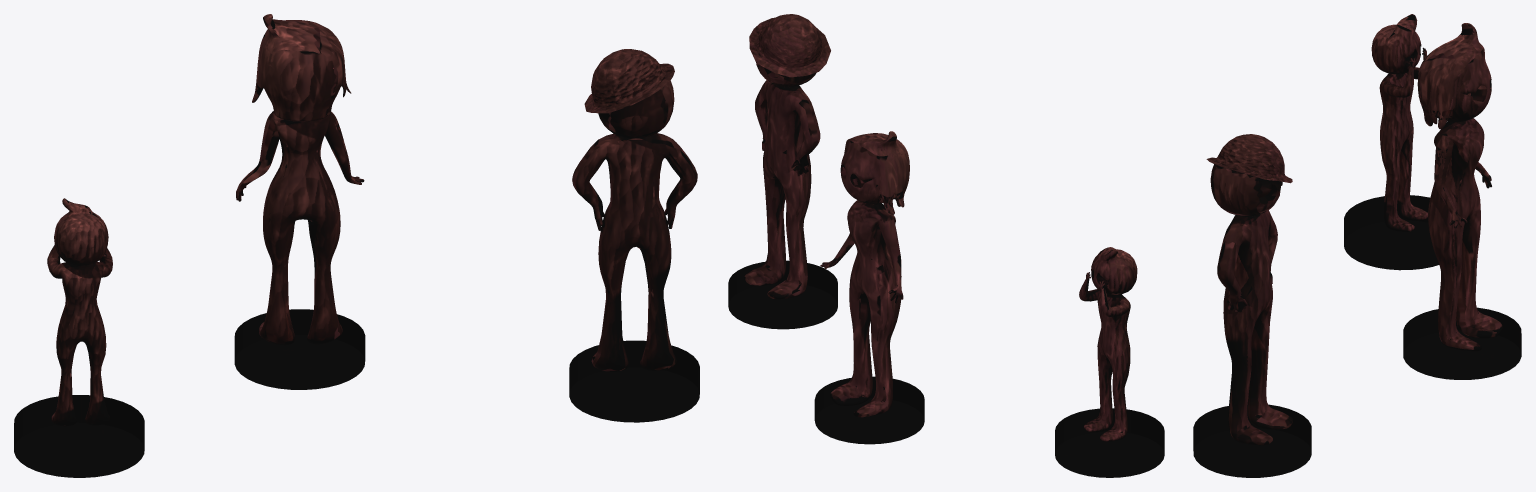
Rendered from wood_draco.glb.
3 views of the same model, side by side, from view 1: azimuth 30°, elevation 25°; view 2: azimuth 150°, elevation 25°; view 3: azimuth 270°, elevation 25° (orthographic). The views are drawn at different scales.
Parts seen in each view (by area): view 1: women, man, child, Circle.002, Circle, Circle.001, hat; view 2: women, man, child, Circle.002, Circle, Circle.001, hat; view 3: women, man, child, Circle, Circle.001, Circle.002, hat.
Part boxes in pixels (box(x1,y1,x2,y2)): women: box(236, 14, 364, 345); man: box(572, 80, 697, 371); child: box(47, 198, 112, 426); Circle.002: box(14, 395, 144, 477); Circle: box(569, 340, 699, 422); Circle.001: box(234, 309, 365, 389); hat: box(584, 49, 674, 113); women: box(820, 131, 909, 417); man: box(744, 62, 820, 299); child: box(1079, 247, 1137, 441); Circle.002: box(1055, 408, 1164, 477); Circle: box(728, 260, 837, 329); Circle.001: box(814, 376, 924, 444); hat: box(749, 14, 830, 77); women: box(1417, 23, 1502, 351); man: box(1210, 164, 1293, 445); child: box(1371, 14, 1427, 231); Circle: box(1193, 404, 1311, 477); Circle.001: box(1403, 307, 1521, 379); Circle.002: box(1344, 195, 1439, 270); hat: box(1206, 134, 1292, 183).
Size of the model in its own units: 1.01 by 0.5869 by 0.542.
Materials: 1 (1 with a texture image).
